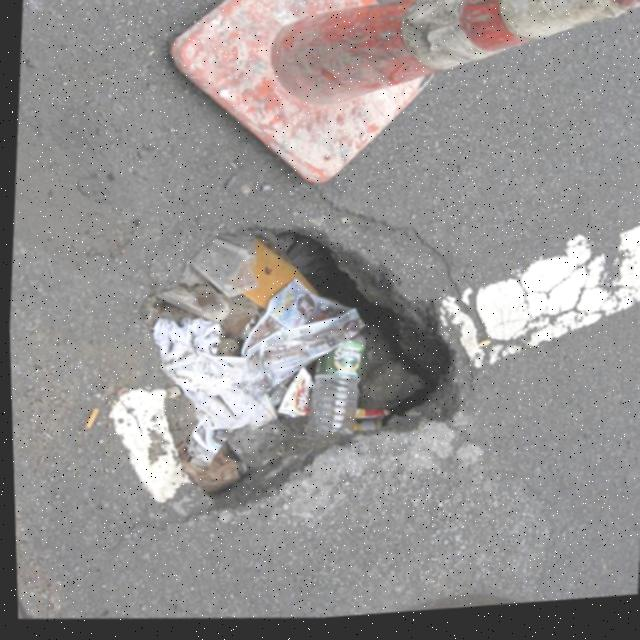Pothole: (100, 205, 484, 541)
